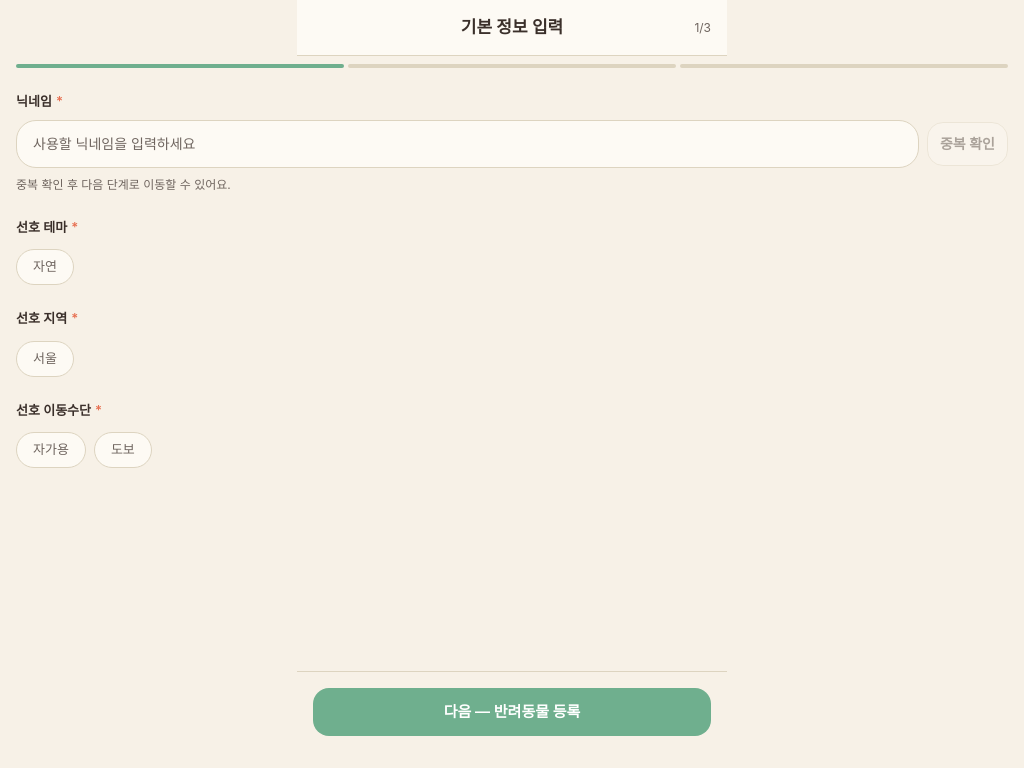
Test case: SignupScreen › keeps the required first pet draft from being deleted
This screenshot has width=1024, height=768.
Later steps or results of the test are not shown.
Type "테스터" into the field with placeholder "사용할 닉네임을 입력하세요" at (467, 144), box [16,120,919,168]
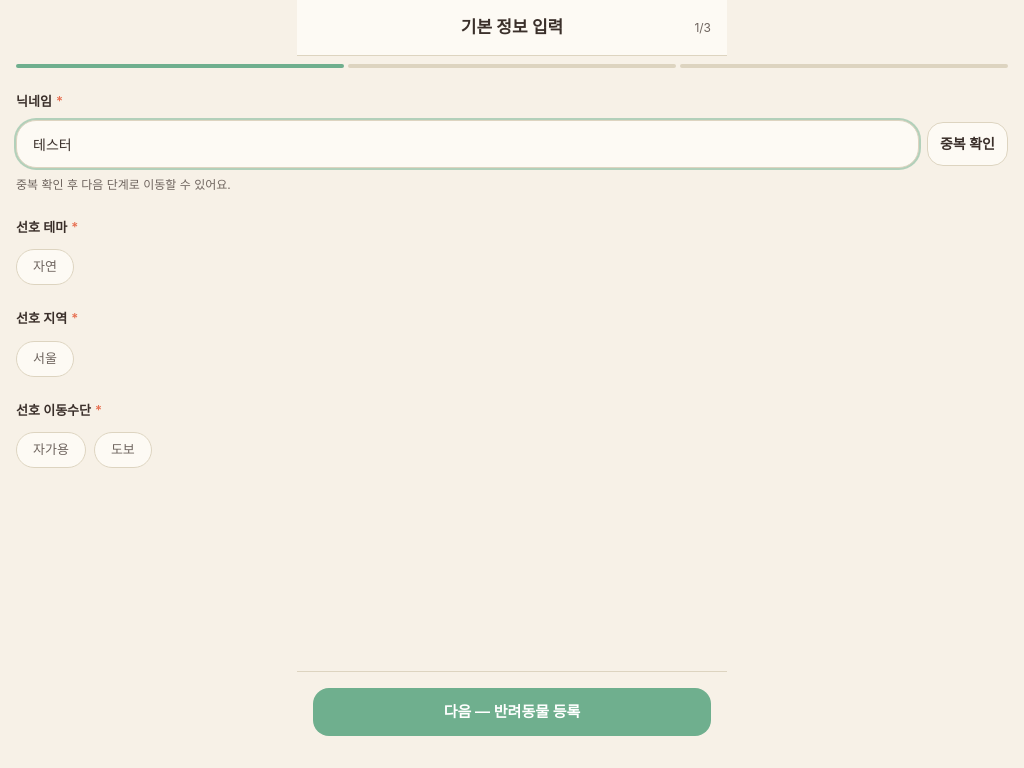
Click the button "중복 확인" at (967, 144), box [927,122,1008,166]
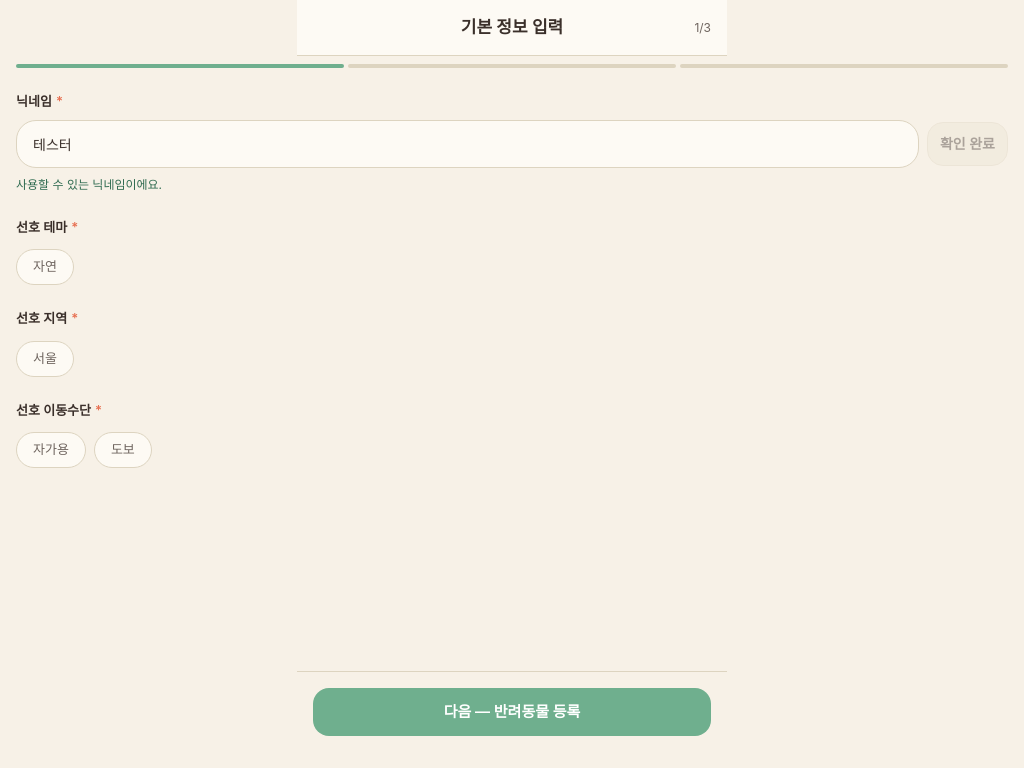
Check: the button "확인 완료" is shown, box [927,122,1008,166]
